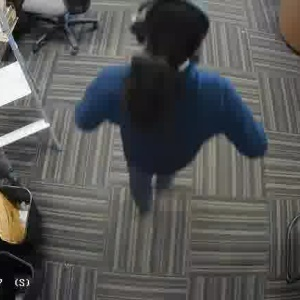person: (104, 15, 225, 196)
